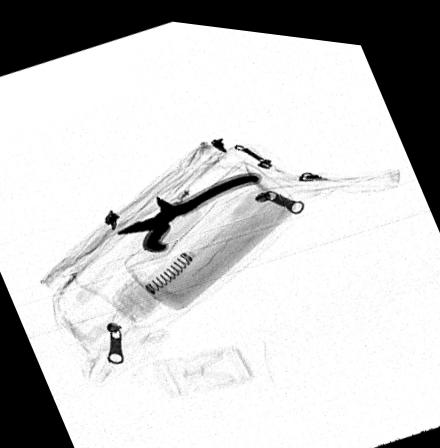Pliers: (114, 165, 260, 249)
